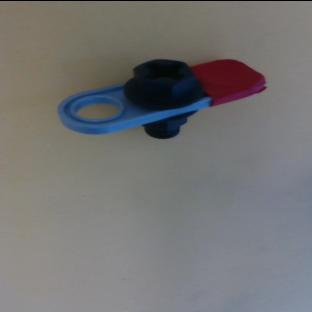part_1_good: (53, 19, 270, 175)
